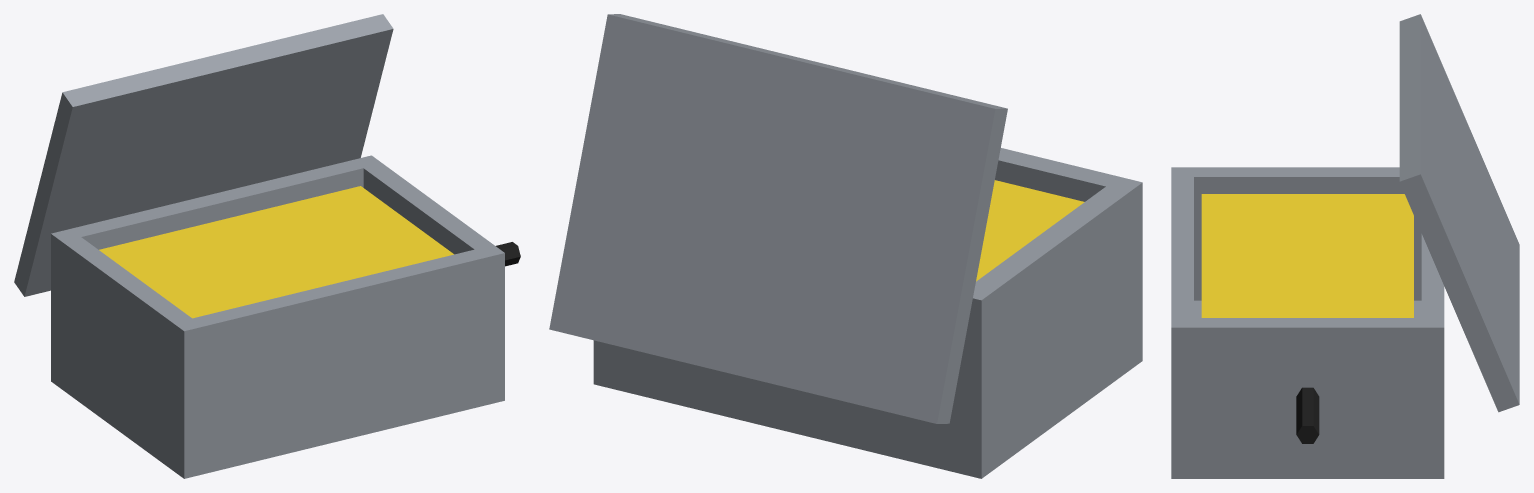
The model's file is plastic_cheese_mold.glb.
3 renders of one model, left to right at view 1: azimuth 30°, elevation 25°; view 2: azimuth 150°, elevation 25°; view 3: azimuth 270°, elevation 25°, orthographic. The views are drawn at different scales.
Visible parts, largest first — view 1: side_mold_steel, lid_mold_steel, block_plastic_cheese, base_mold_steel; view 2: lid_mold_steel, side_mold_steel, base_mold_steel, block_plastic_cheese; view 3: side_mold_steel, block_plastic_cheese, lid_mold_steel, base_mold_steel, crank_mold_handle.
Boxes of the visible parts, x1,y1,x2,y2 form: side_mold_steel: (51, 155, 504, 465); lid_mold_steel: (14, 14, 393, 296); block_plastic_cheese: (99, 186, 453, 318); base_mold_steel: (51, 368, 504, 478); lid_mold_steel: (549, 14, 1007, 423); side_mold_steel: (593, 148, 1142, 462); base_mold_steel: (593, 329, 1142, 478); block_plastic_cheese: (976, 180, 1084, 281); side_mold_steel: (1171, 167, 1444, 465); block_plastic_cheese: (1201, 194, 1413, 317); lid_mold_steel: (1399, 14, 1519, 412); base_mold_steel: (1171, 300, 1444, 478); crank_mold_handle: (1296, 387, 1319, 443).
Bounding box in the file's own units: 0.62 × 0.4432 × 0.4592.
